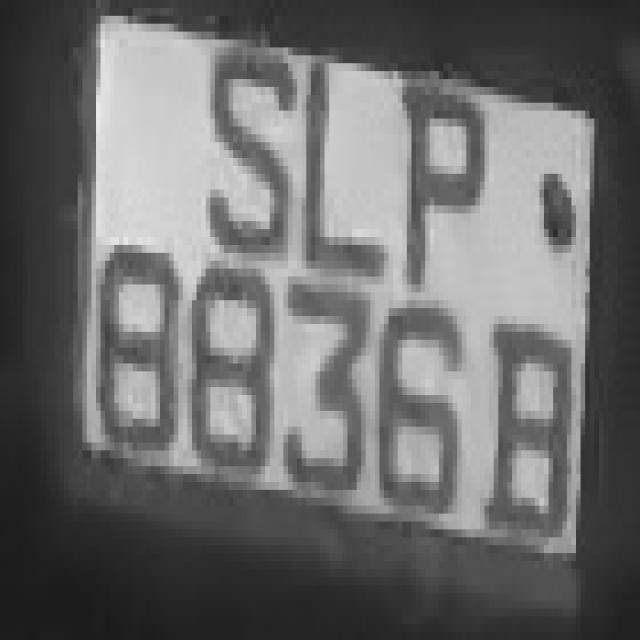3: (274, 261, 380, 521)
6: (371, 269, 466, 545)
8: (192, 253, 283, 529), (91, 190, 174, 482)
B: (480, 292, 571, 585)
L: (297, 16, 393, 316)
P: (389, 48, 489, 284)
S: (192, 32, 293, 276)
